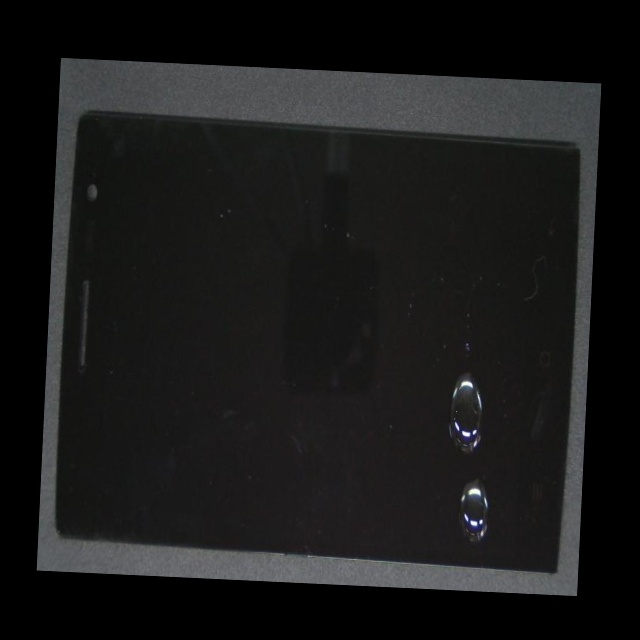oil: (254, 198, 595, 549), (240, 268, 592, 596)
